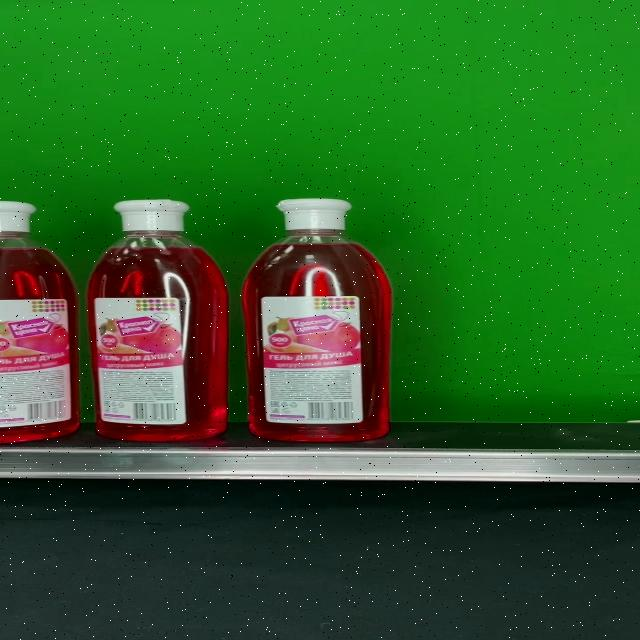Bottle: (243, 198, 392, 441), (86, 200, 228, 440)
Cap: (114, 200, 190, 232), (276, 198, 352, 230)
